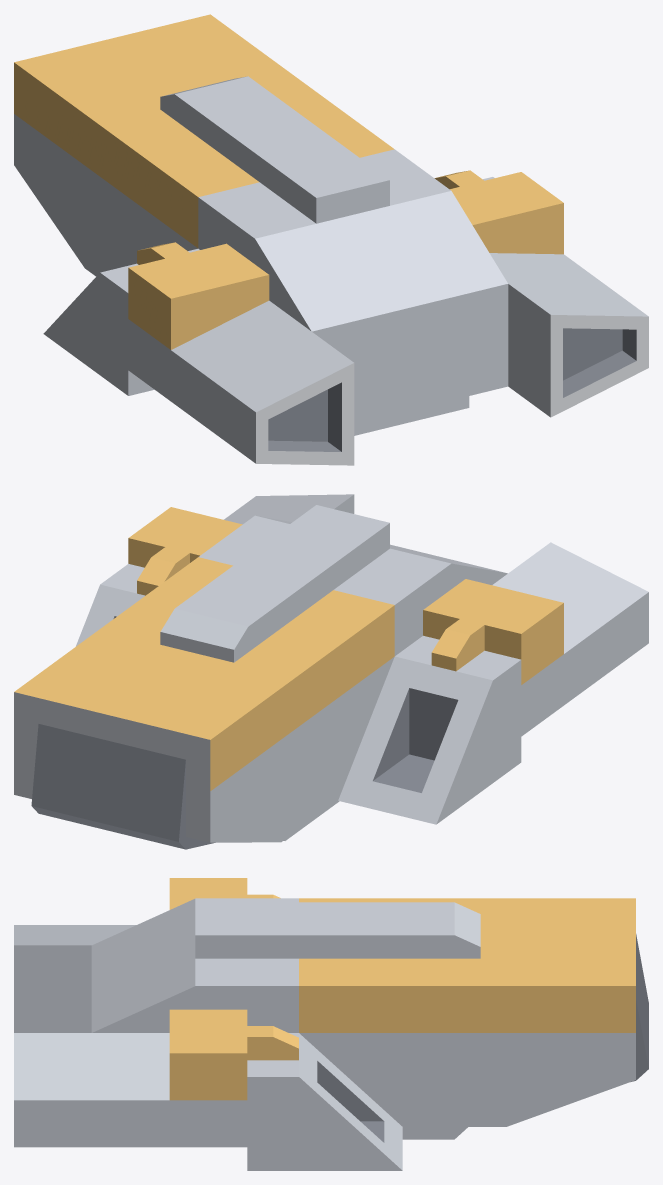
The model's file is craft_cargoA.glb.
3 views of the same model, one above another, from view 1: azimuth 30°, elevation 25°; view 2: azimuth 150°, elevation 25°; view 3: azimuth 270°, elevation 25° (orthographic). The views are drawn at different scales.
Parts seen in each view (by area): view 1: craft_cargoA; view 2: craft_cargoA; view 3: craft_cargoA.
Boxes of the visible parts, left/top/right/bottom form: craft_cargoA: left=14, top=14, right=648, bottom=465; craft_cargoA: left=14, top=494, right=648, bottom=849; craft_cargoA: left=14, top=878, right=648, bottom=1170.
Bounding box in the file's own units: 1.6 × 0.8 × 2.45.
Materials: 1 (1 with a texture image).
